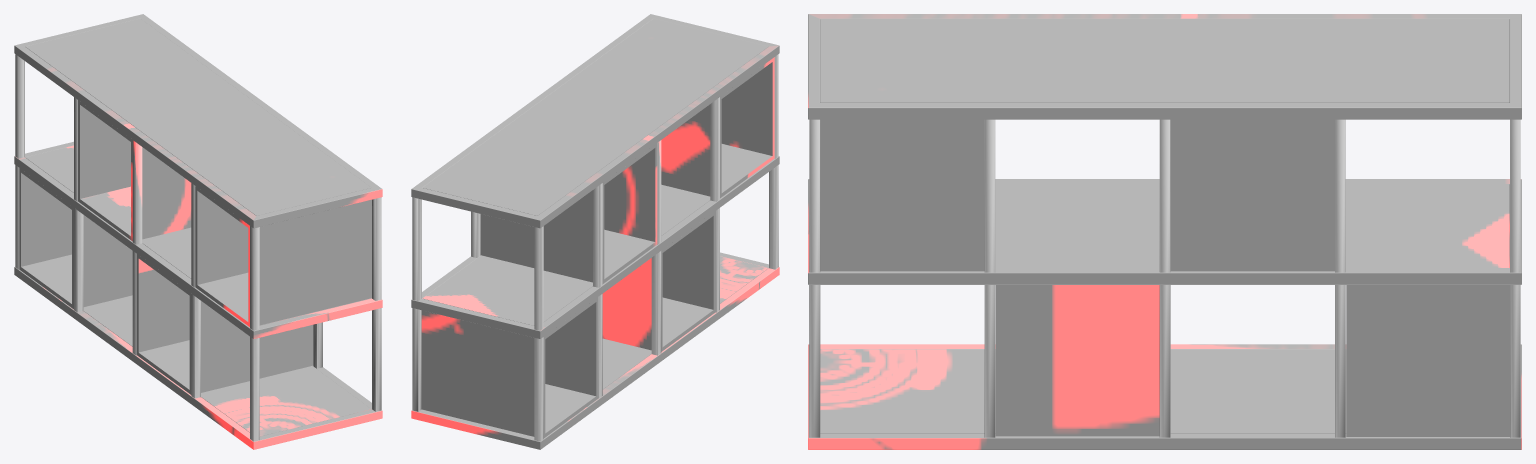
The model's file is SM_WallShelfWoodenMetalSmallS.fbx.
The picture shows the model from 3 angles, left to right: view 1: azimuth 30°, elevation 25°; view 2: azimuth 150°, elevation 25°; view 3: azimuth 270°, elevation 25°; orthographic projection. The views are drawn at different scales.
Parts seen in each view (by area): view 1: SM_WallShelfWoodenMetalSmallS_LOD0; view 2: SM_WallShelfWoodenMetalSmallS_LOD0; view 3: SM_WallShelfWoodenMetalSmallS_LOD0.
Part boxes in pixels (x1,y1,x2,y2): SM_WallShelfWoodenMetalSmallS_LOD0: (14, 14, 382, 449); SM_WallShelfWoodenMetalSmallS_LOD0: (411, 14, 779, 449); SM_WallShelfWoodenMetalSmallS_LOD0: (808, 14, 1521, 449).
Size of the model in its own units: 50.6 by 162 by 85.89.
